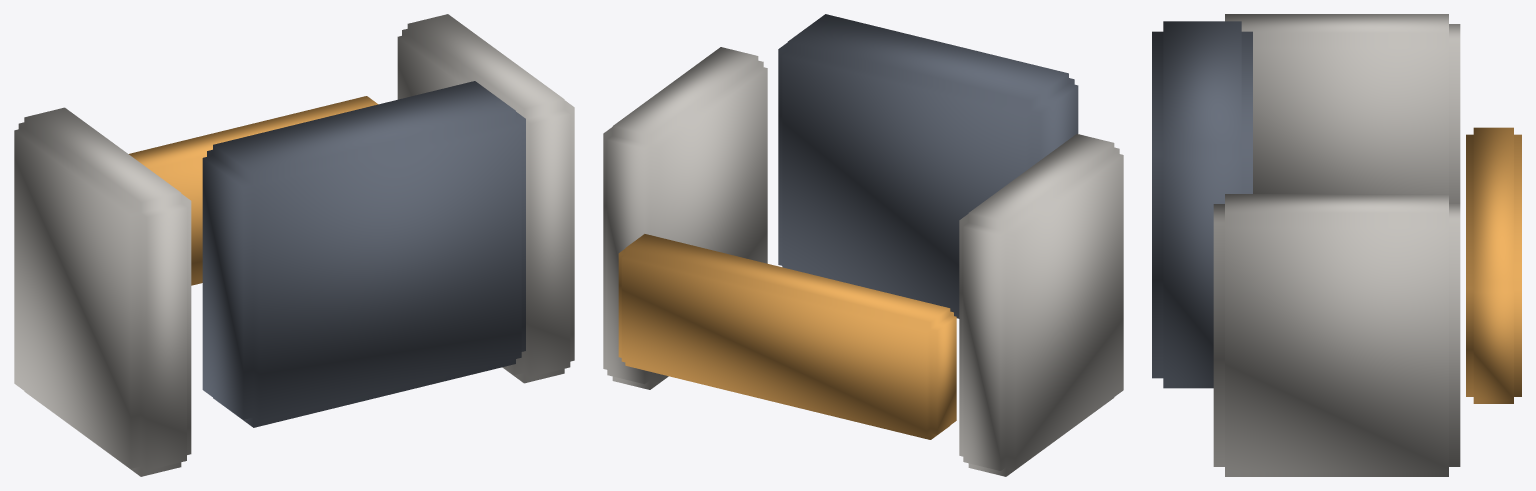
File: turret_pod.glb
3 renders of one model, left to right at view 1: azimuth 30°, elevation 25°; view 2: azimuth 150°, elevation 25°; view 3: azimuth 270°, elevation 25°, orthographic. The views are drawn at different scales.
Parts seen in each view (by area): view 1: turret_pod; view 2: turret_pod; view 3: turret_pod.
Part boxes in pixels (x1,y1,x2,y2): turret_pod: [14, 14, 574, 476]; turret_pod: [603, 14, 1123, 476]; turret_pod: [1152, 14, 1521, 476].
Bounding box in the file's own units: 0.44 × 0.29 × 0.33.
